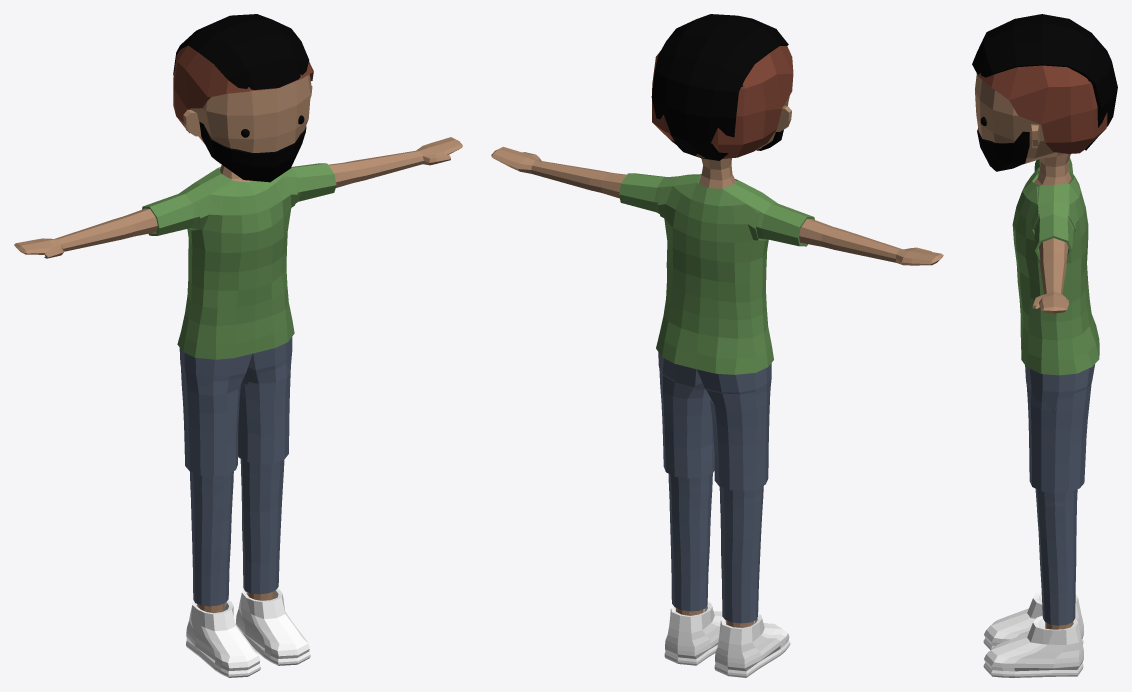
The model's file is npc_masculino.fbx.
3 views of the same model, side by side, from view 1: azimuth 30°, elevation 25°; view 2: azimuth 150°, elevation 25°; view 3: azimuth 270°, elevation 25° (orthographic).
Parts seen in each view (by area): view 1: musculosa.001, pantalon_largo.001, cuerpo.001, pantalon_corto.001, remera.001, zapatilla.001, pelo01.001, pelo02.001, barba.001; view 2: musculosa.001, pantalon_largo.001, pelo01.001, pantalon_corto.001, remera.001, cuerpo.001, zapatilla.001, pelo02.001; view 3: musculosa.001, pelo01.001, pantalon_largo.001, pelo02.001, zapatilla.001, cuerpo.001, pantalon_corto.001, remera.001, barba.001.
Boxes of the visible parts, x1=… form: musculosa.001: x1=177, y1=167, x2=297, y2=359; pantalon_largo.001: x1=179, y1=337, x2=292, y2=606; cuerpo.001: x1=14, y1=74, x2=462, y2=613; pantalon_corto.001: x1=181, y1=363, x2=291, y2=476; remera.001: x1=142, y1=163, x2=336, y2=359; zapatilla.001: x1=186, y1=588, x2=310, y2=677; pelo01.001: x1=173, y1=14, x2=309, y2=89; pelo02.001: x1=173, y1=45, x2=313, y2=133; barba.001: x1=199, y1=122, x2=306, y2=182; musculosa.001: x1=656, y1=179, x2=773, y2=374; pantalon_largo.001: x1=658, y1=352, x2=771, y2=623; pelo01.001: x1=651, y1=14, x2=788, y2=160; pantalon_corto.001: x1=659, y1=369, x2=770, y2=491; remera.001: x1=619, y1=173, x2=814, y2=374; cuerpo.001: x1=491, y1=95, x2=943, y2=627; zapatilla.001: x1=664, y1=601, x2=790, y2=677; pelo02.001: x1=652, y1=46, x2=793, y2=158; musculosa.001: x1=1012, y1=168, x2=1099, y2=375; pelo01.001: x1=972, y1=14, x2=1117, y2=150; pantalon_largo.001: x1=1025, y1=364, x2=1094, y2=625; pelo02.001: x1=977, y1=65, x2=1107, y2=153; zapatilla.001: x1=983, y1=591, x2=1083, y2=677; cuerpo.001: x1=975, y1=73, x2=1072, y2=629; pantalon_corto.001: x1=1026, y1=383, x2=1091, y2=493; remera.001: x1=1012, y1=157, x2=1098, y2=374; barba.001: x1=977, y1=128, x2=1029, y2=171.
Size of the model in its own units: 131 by 178 by 37.19.
